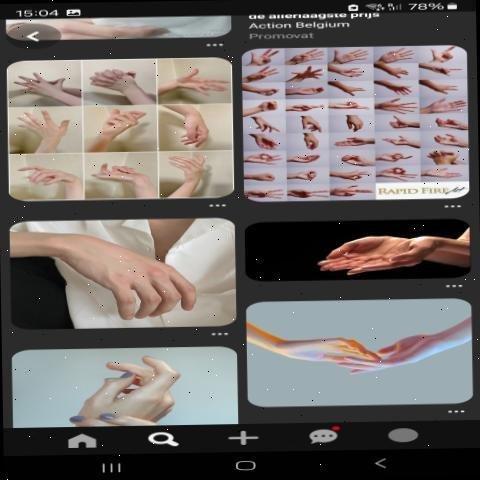Hands: (23, 228, 213, 326), (260, 313, 380, 386), (300, 219, 410, 277), (159, 56, 233, 102), (12, 104, 85, 148), (14, 156, 88, 196)
